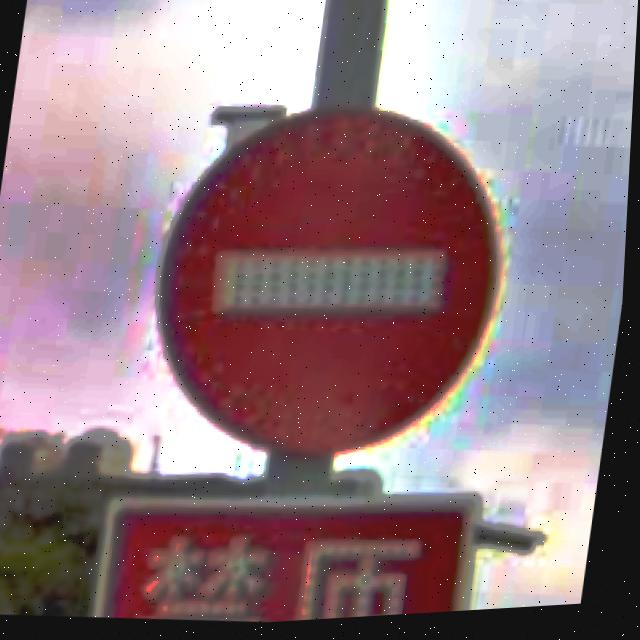noentry: (134, 84, 528, 489)
